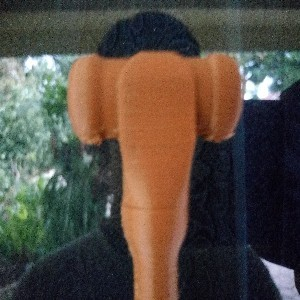palu: (67, 49, 244, 300)
